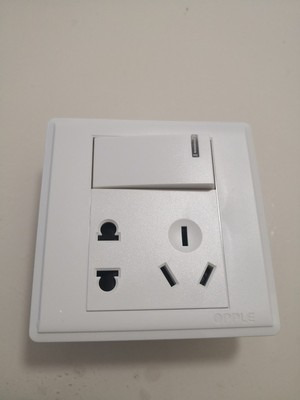switch: (88, 129, 220, 195)
